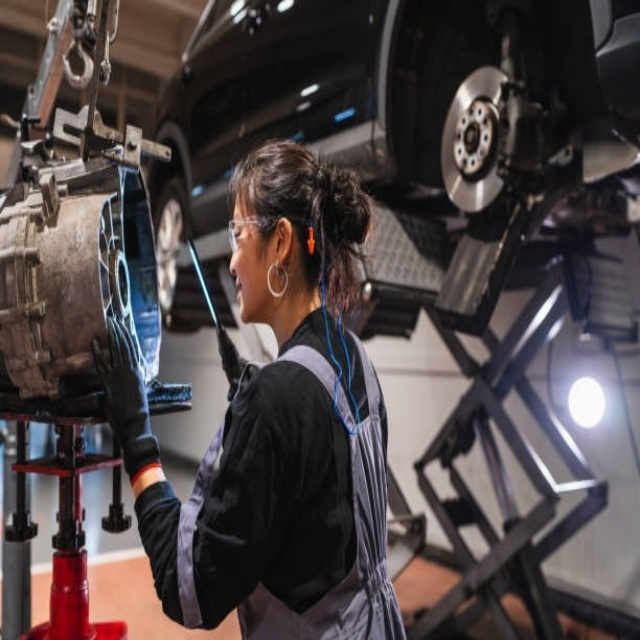Gafas: (229, 215, 280, 250)
Guantes: (93, 311, 165, 474)
Sin_mascara: (228, 264, 253, 314)
